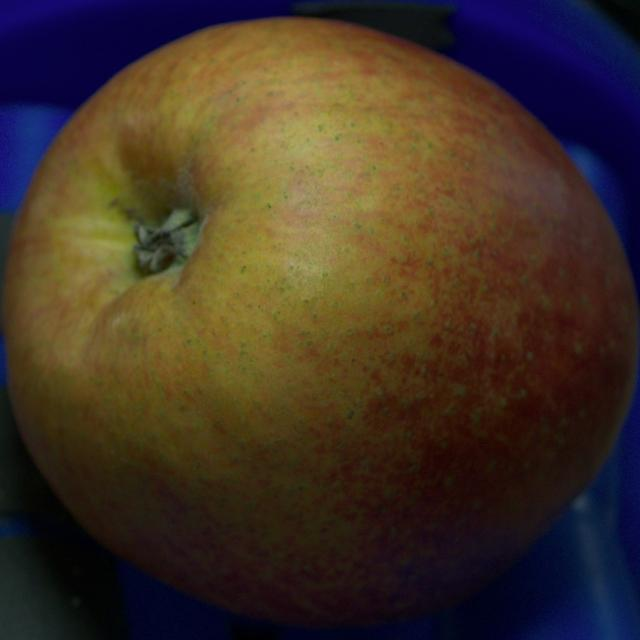apple: (2, 18, 639, 626)
